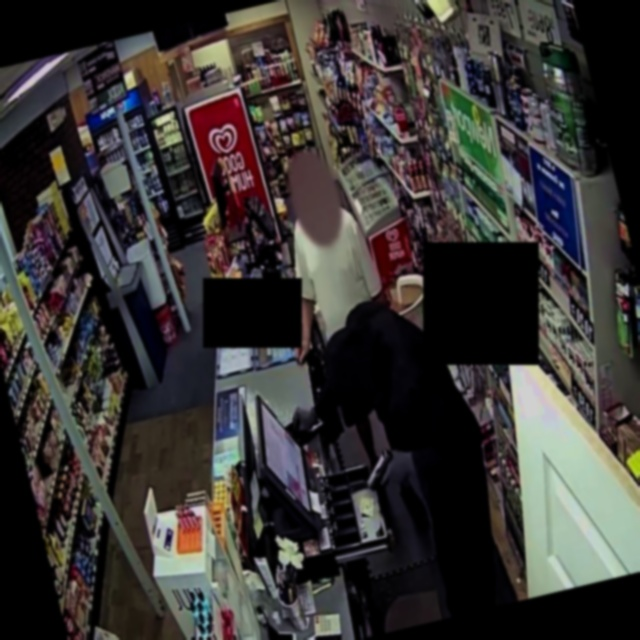gun: (352, 438, 413, 503)
